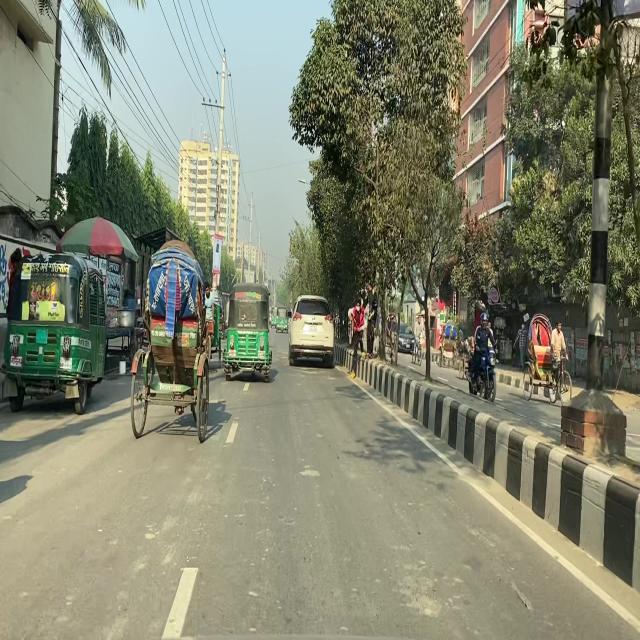car: (287, 294, 335, 368)
motorbike: (464, 337, 500, 404)
